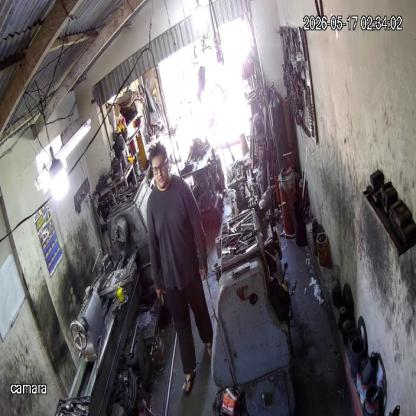lentes: (151, 162, 168, 178)
